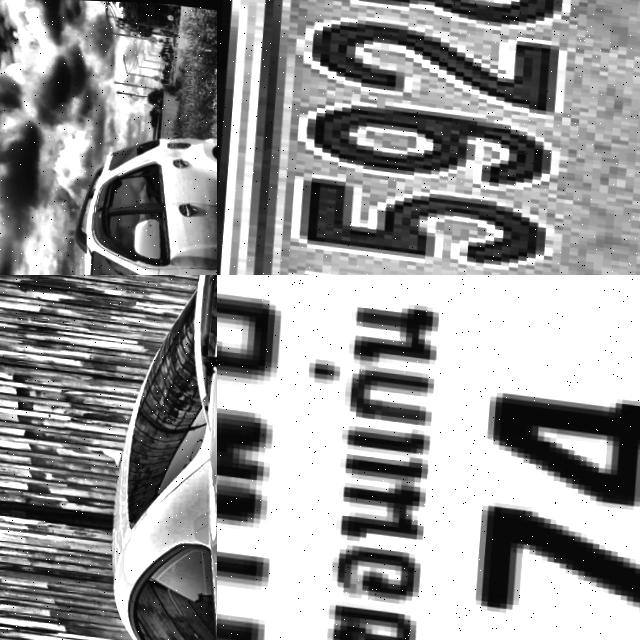license-plate: (217, 275, 640, 640), (217, 0, 640, 275)
